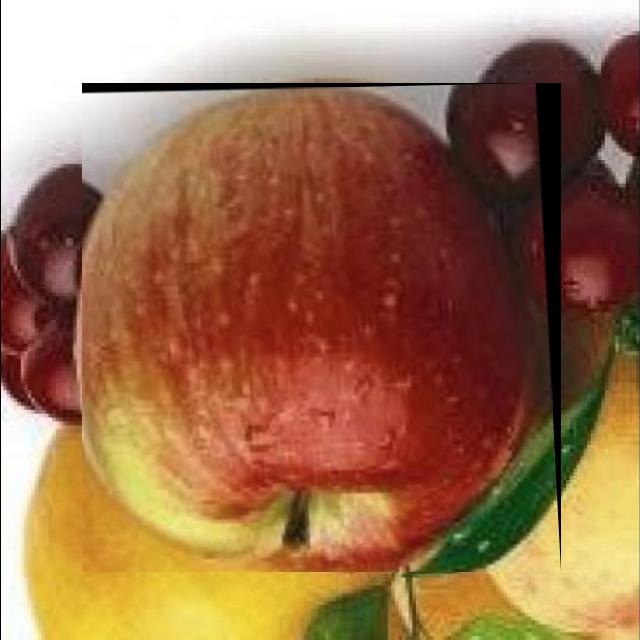Apple: (81, 87, 551, 572)
